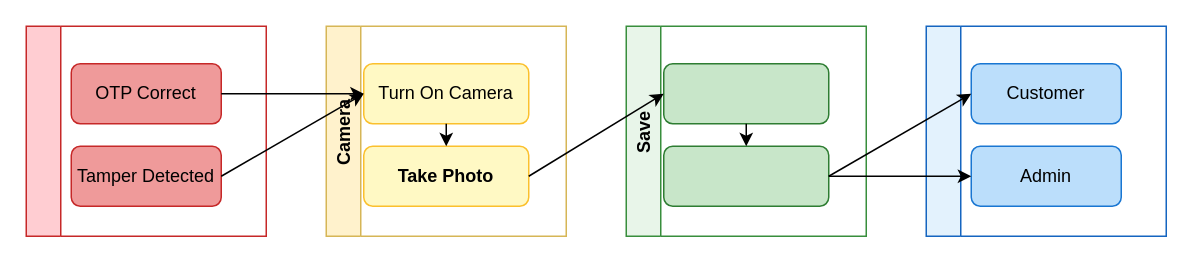
Image size: 1193x263. Some labels were removed from this diagram. The box of each missing label's shape, as (x1, y1, x2, y2) in pixels:
Send to Server: (662, 62, 829, 124)
Store in Database: (662, 145, 829, 206)
When to Take Photo: (25, 25, 266, 236)
Who Can View: (925, 25, 1166, 236)
